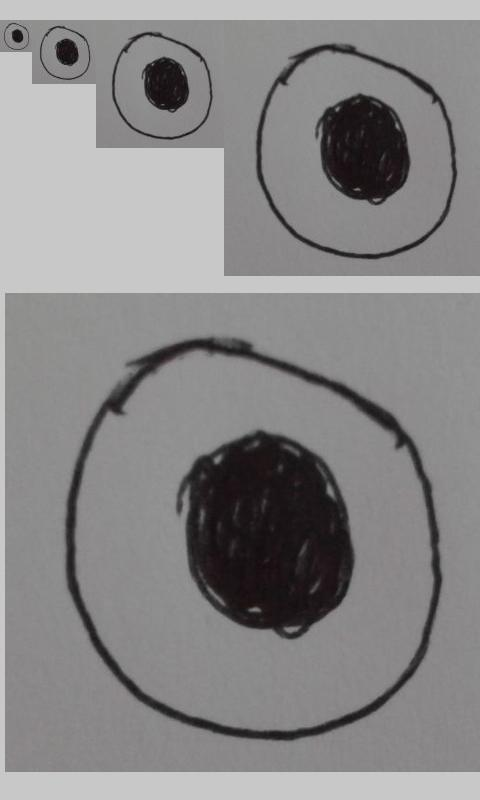radio_button: (60, 337, 446, 742), (255, 44, 459, 264), (111, 31, 213, 140), (39, 25, 91, 81), (3, 22, 30, 51)
